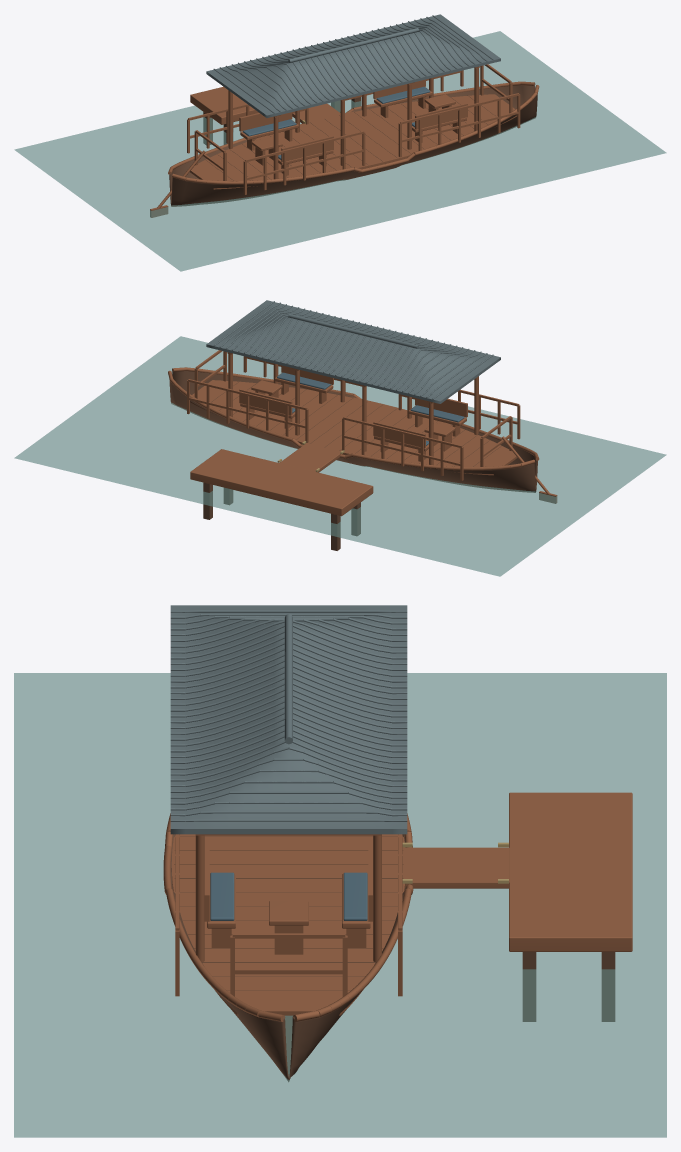
Rendered from boarding-fixture.glb.
The picture shows the model from 3 angles, top to bottom: view 1: azimuth 30°, elevation 25°; view 2: azimuth 150°, elevation 25°; view 3: azimuth 270°, elevation 25°; orthographic projection. The views are drawn at different scales.
Visible parts, largest first — view 1: water surface at design waterline, barge.wood, barge.roof, barge.hull, dock walking slab, barge.cushion, gangplank 1.2m clear; view 2: water surface at design waterline, barge.wood, barge.roof, dock walking slab, barge.hull, gangplank 1.2m clear, barge.cushion; view 3: water surface at design waterline, barge.roof, barge.wood, dock walking slab, barge.hull, gangplank 1.2m clear, barge.cushion, pier piles continue underwater.002, pier piles continue underwater.003.
Part boxes in pixels (left/top/right/bottom): water surface at design waterline: left=14, top=31, right=666, bottom=271; barge.wood: left=150, top=64, right=539, bottom=217; barge.roof: left=206, top=14, right=500, bottom=117; barge.hull: left=169, top=83, right=537, bottom=206; dock walking slab: left=190, top=86, right=258, bottom=124; barge.cushion: left=243, top=86, right=430, bottom=159; gangplank 1.2m clear: left=292, top=103, right=340, bottom=123; water surface at design waterline: left=14, top=336, right=666, bottom=576; barge.wood: left=168, top=350, right=557, bottom=503; barge.roof: left=206, top=300, right=500, bottom=403; dock walking slab: left=190, top=449, right=373, bottom=516; barge.hull: left=169, top=369, right=537, bottom=492; gangplank 1.2m clear: left=279, top=443, right=341, bottom=472; barge.cushion: left=277, top=372, right=464, bottom=445; water surface at design waterline: left=14, top=673, right=666, bottom=1137; barge.roof: left=170, top=605, right=407, bottom=834; barge.wood: left=163, top=813, right=413, bottom=1021; dock walking slab: left=509, top=792, right=632, bottom=951; barge.hull: left=170, top=834, right=406, bottom=1081; gangplank 1.2m clear: left=402, top=847, right=509, bottom=888; barge.cushion: left=210, top=872, right=367, bottom=920; pier piles continue underwater.002: left=522, top=952, right=536, bottom=1021; pier piles continue underwater.003: left=601, top=952, right=615, bottom=1021.
Bounding box in the file's own units: 16 × 4.54 × 9.5.
